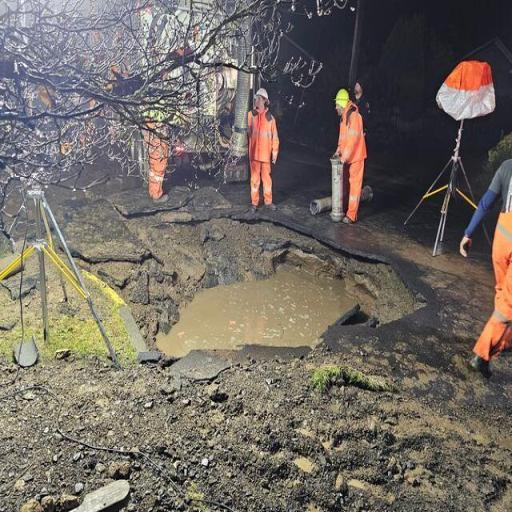Concentric_Crack: (90, 209, 418, 357)
